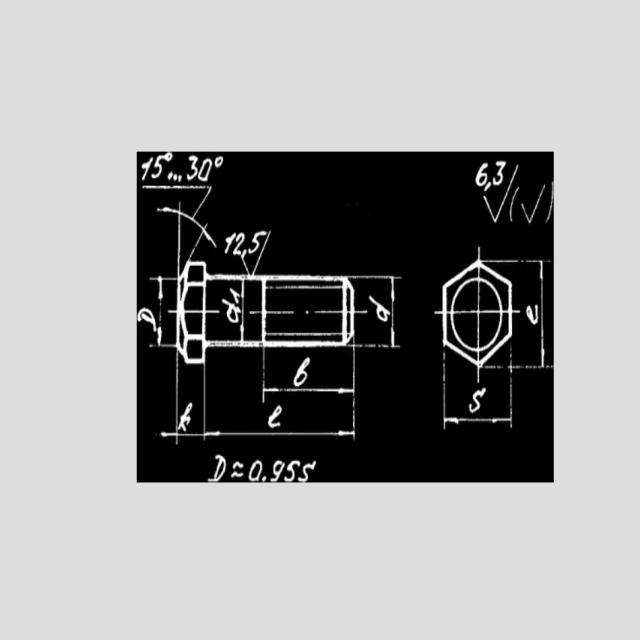marking_line: (201, 366, 357, 440), (261, 348, 357, 404), (441, 370, 514, 429), (513, 260, 552, 370), (158, 365, 208, 443), (355, 276, 402, 351), (155, 206, 216, 260), (150, 274, 176, 349), (238, 280, 246, 340)
numeric: (369, 295, 391, 324), (223, 295, 241, 326), (469, 384, 487, 414), (138, 304, 156, 332), (299, 457, 319, 482), (269, 456, 286, 482), (524, 300, 540, 327), (248, 230, 266, 254), (248, 456, 265, 481), (475, 160, 489, 187), (151, 155, 166, 180), (223, 232, 238, 256), (198, 158, 212, 183), (286, 457, 300, 481), (140, 156, 153, 181), (232, 232, 246, 255), (493, 161, 505, 186), (187, 156, 198, 181), (228, 285, 240, 304)
special_symbol: (485, 167, 522, 222), (239, 235, 272, 274), (520, 181, 547, 227), (509, 185, 522, 226), (547, 180, 556, 226), (214, 155, 225, 167), (165, 153, 173, 161), (168, 171, 173, 181), (178, 174, 183, 183), (173, 174, 178, 182)
